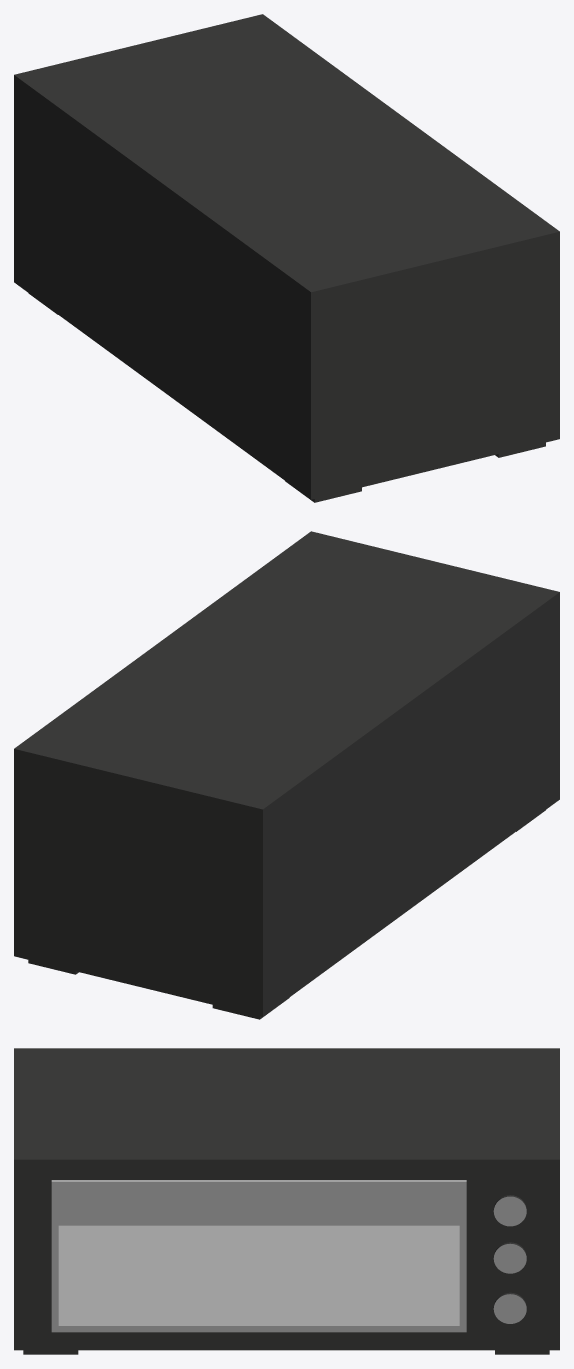
Rendered from Oven.fbx.
3 renders of one model, top to bottom at view 1: azimuth 30°, elevation 25°; view 2: azimuth 150°, elevation 25°; view 3: azimuth 270°, elevation 25°, orthographic. The views are drawn at different scales.
Visible parts, largest first — view 1: Oven; view 2: Oven; view 3: Oven.
Boxes of the visible parts, x1,y1,x2,y2 form: Oven: (14,14,559,502); Oven: (14,531,559,1019); Oven: (14,1048,559,1354).
Bounding box in the file's own units: 0.6516 × 0.5323 × 1.32.
